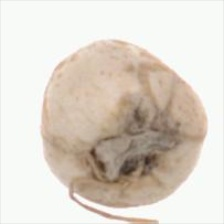L4: (41, 39, 207, 208)
